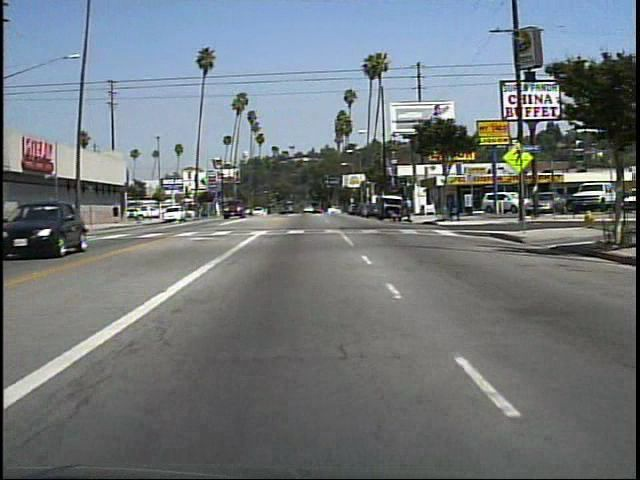person: (402, 194, 417, 225), (109, 199, 122, 225), (386, 208, 403, 227)
